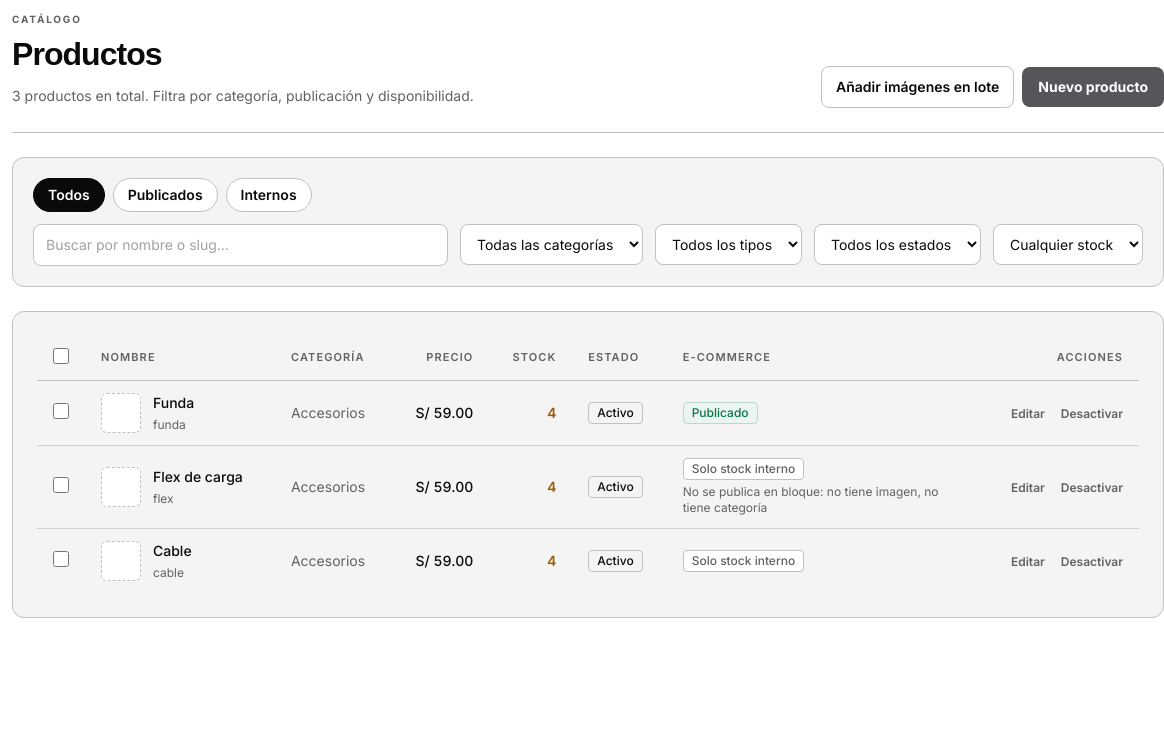
Scenario: la selección › la casilla de la cabecera marca y desmarca la página
Expected: the link "Funda" is shown, [153,394,194,411]
Click the checkbox named "Seleccionar los 3 productos de esta página" at (61, 356), box [53,348,69,364]
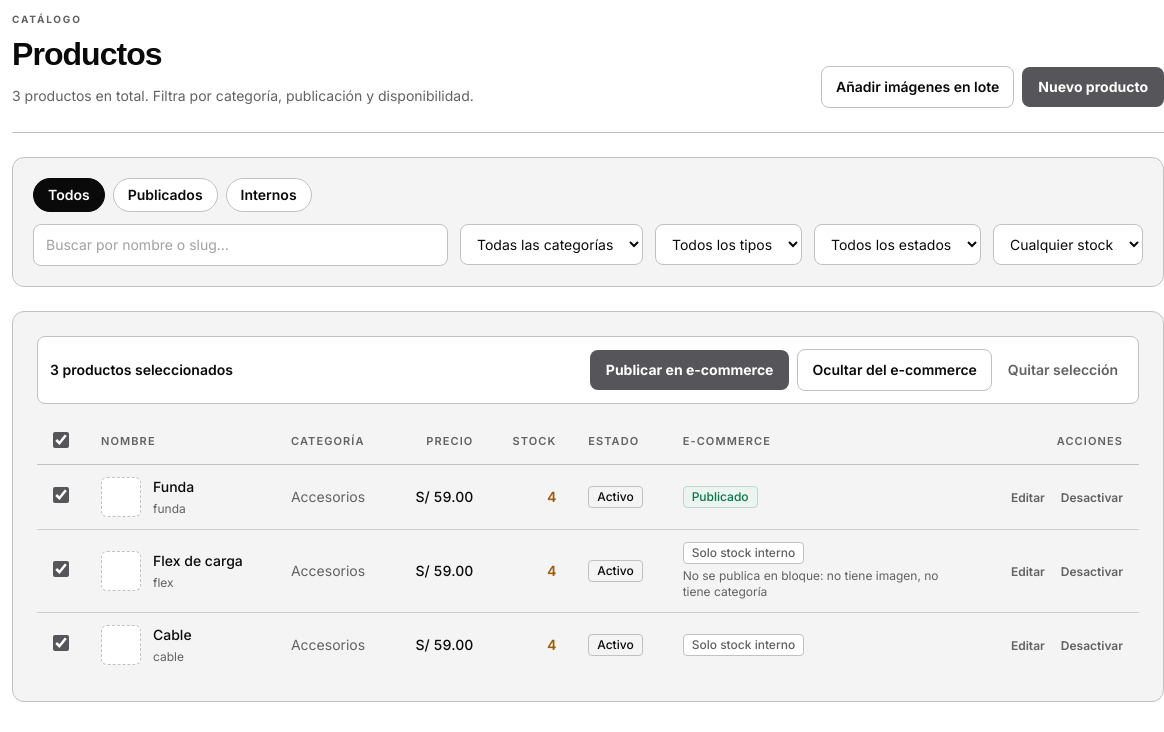
Expected: the text "3 productos seleccionados" is shown, [50,360,233,380]
Expected: the checkbox named "Seleccionar Funda" is checked, [53,487,69,503]
Expected: the checkbox named "Seleccionar Flex de carga" is checked, [53,561,69,577]
Click the checkbox named "Seleccionar los 3 productos de esta página" at (61, 440), box [53,432,69,448]
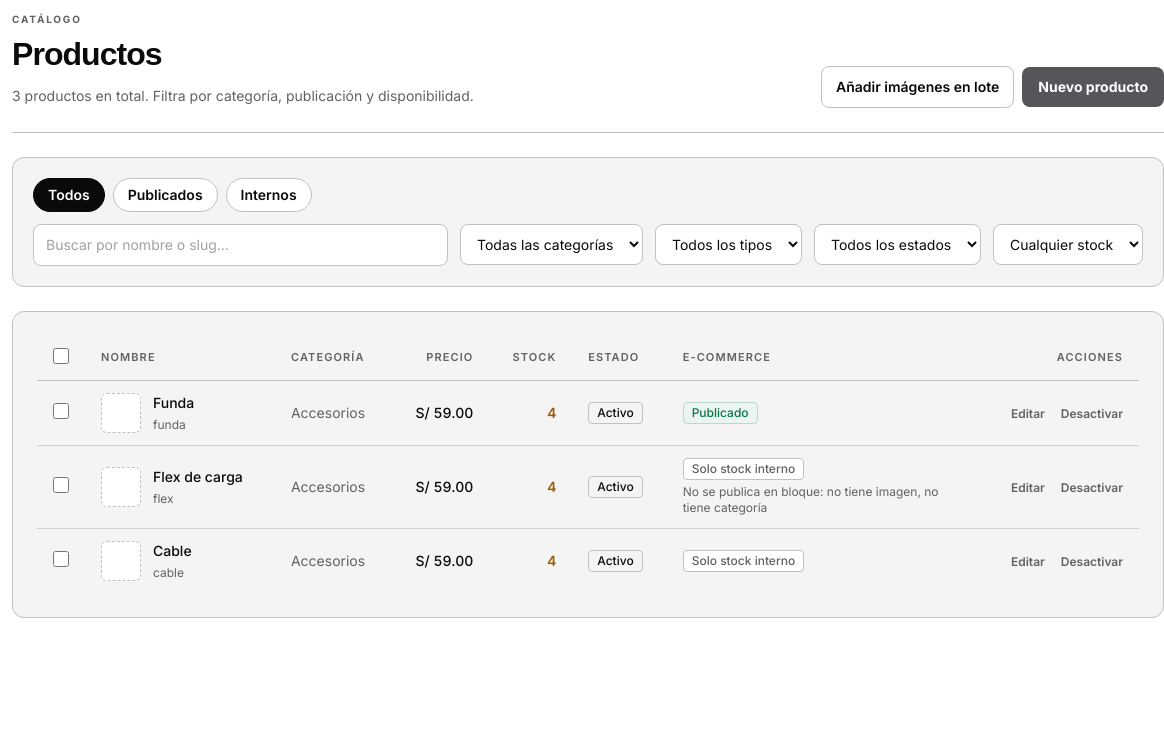
Expected: the text "seleccionados?" is gone
